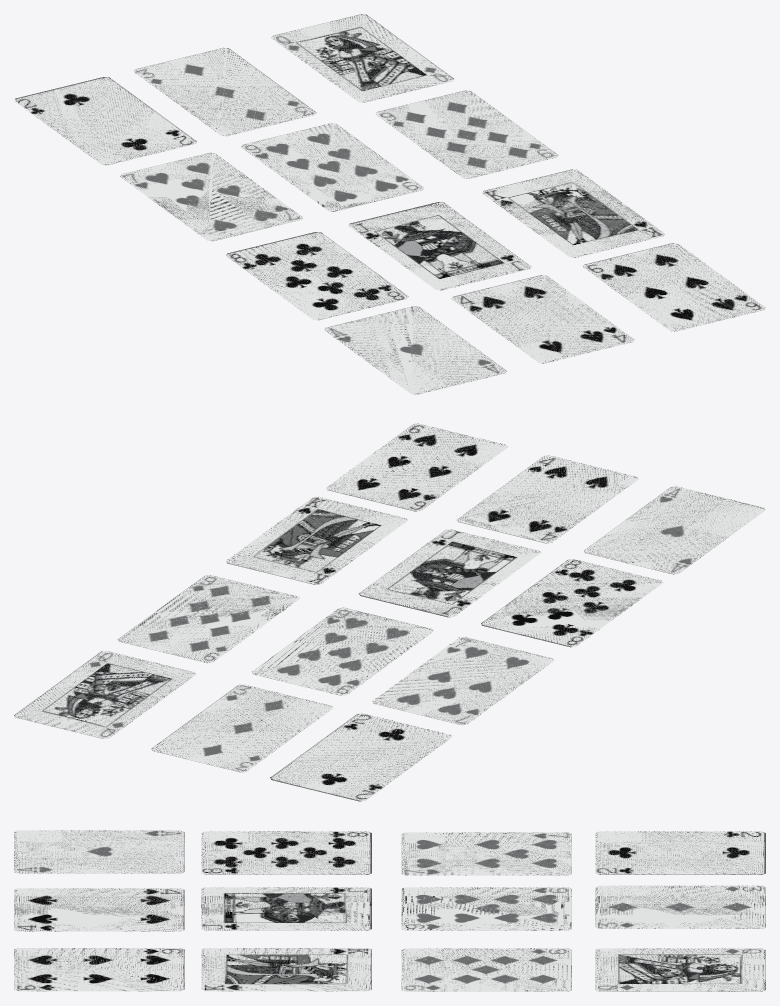
Rendered from obj_PlayingCards.fbx.
3 views of the same model, one above another, from view 1: azimuth 30°, elevation 25°; view 2: azimuth 150°, elevation 25°; view 3: azimuth 270°, elevation 25° (orthographic). The views are drawn at different scales.
Parts seen in each view (by area): view 1: obj_PlayingCard_Hearts9, obj_PlayingCard_HeartsA, obj_PlayingCard_DiamondsQ, obj_PlayingCard_ClubsJ, obj_PlayingCard_Spades6, obj_PlayingCard_Diamonds9, obj_PlayingCard_Spades4, obj_PlayingCard_Diamonds3, obj_PlayingCard_Clubs2, obj_PlayingCard_Clubs8, obj_PlayingCard_SpadesK, obj_PlayingCard_Hearts7; view 2: obj_PlayingCard_Diamonds3, obj_PlayingCard_Spades4, obj_PlayingCard_HeartsA, obj_PlayingCard_ClubsJ, obj_PlayingCard_Clubs2, obj_PlayingCard_Hearts7, obj_PlayingCard_Hearts9, obj_PlayingCard_Clubs8, obj_PlayingCard_Spades6, obj_PlayingCard_Diamonds9, obj_PlayingCard_DiamondsQ, obj_PlayingCard_SpadesK; view 3: obj_PlayingCard_Hearts7, obj_PlayingCard_Diamonds9, obj_PlayingCard_Clubs2, obj_PlayingCard_Clubs8, obj_PlayingCard_ClubsJ, obj_PlayingCard_Spades4, obj_PlayingCard_Hearts9, obj_PlayingCard_DiamondsQ, obj_PlayingCard_Diamonds3, obj_PlayingCard_HeartsA, obj_PlayingCard_SpadesK, obj_PlayingCard_Spades6.
Part boxes in pixels (box(x1,y1,x2,y2)): obj_PlayingCard_Hearts9: box(241, 123, 423, 211); obj_PlayingCard_HeartsA: box(324, 306, 506, 394); obj_PlayingCard_DiamondsQ: box(271, 14, 453, 102); obj_PlayingCard_ClubsJ: box(348, 202, 531, 290); obj_PlayingCard_Spades6: box(583, 243, 765, 331); obj_PlayingCard_Diamonds9: box(375, 90, 558, 178); obj_PlayingCard_Spades4: box(451, 275, 634, 363); obj_PlayingCard_Diamonds3: box(133, 47, 316, 136); obj_PlayingCard_Clubs2: box(14, 77, 196, 165); obj_PlayingCard_Clubs8: box(226, 232, 408, 320); obj_PlayingCard_SpadesK: box(482, 169, 664, 257); obj_PlayingCard_Hearts7: box(120, 152, 302, 241); obj_PlayingCard_Diamonds3: box(151, 684, 333, 772); obj_PlayingCard_Spades4: box(457, 455, 638, 543); obj_PlayingCard_HeartsA: box(584, 486, 765, 574); obj_PlayingCard_ClubsJ: box(358, 529, 540, 617); obj_PlayingCard_Clubs2: box(270, 713, 451, 801); obj_PlayingCard_Hearts7: box(372, 637, 553, 725); obj_PlayingCard_Hearts9: box(252, 607, 433, 695); obj_PlayingCard_Clubs8: box(481, 559, 662, 647); obj_PlayingCard_Spades6: box(326, 423, 507, 511); obj_PlayingCard_Diamonds9: box(118, 575, 299, 663); obj_PlayingCard_DiamondsQ: box(14, 651, 196, 738); obj_PlayingCard_SpadesK: box(226, 496, 407, 584); obj_PlayingCard_Hearts7: box(401, 832, 571, 875); obj_PlayingCard_Diamonds9: box(401, 948, 571, 991); obj_PlayingCard_Clubs2: box(595, 831, 765, 874); obj_PlayingCard_Clubs8: box(201, 831, 371, 874); obj_PlayingCard_ClubsJ: box(201, 887, 371, 930); obj_PlayingCard_Spades4: box(14, 888, 184, 931); obj_PlayingCard_Hearts9: box(401, 887, 571, 930); obj_PlayingCard_DiamondsQ: box(595, 948, 765, 991); obj_PlayingCard_Diamonds3: box(595, 885, 765, 928); obj_PlayingCard_HeartsA: box(14, 830, 184, 873); obj_PlayingCard_SpadesK: box(201, 948, 371, 991); obj_PlayingCard_Spades6: box(14, 948, 184, 991).
Bounding box in the file's own units: 0.2651 × 1.93e-08 × 0.5219.
1 material, 1 textured.
